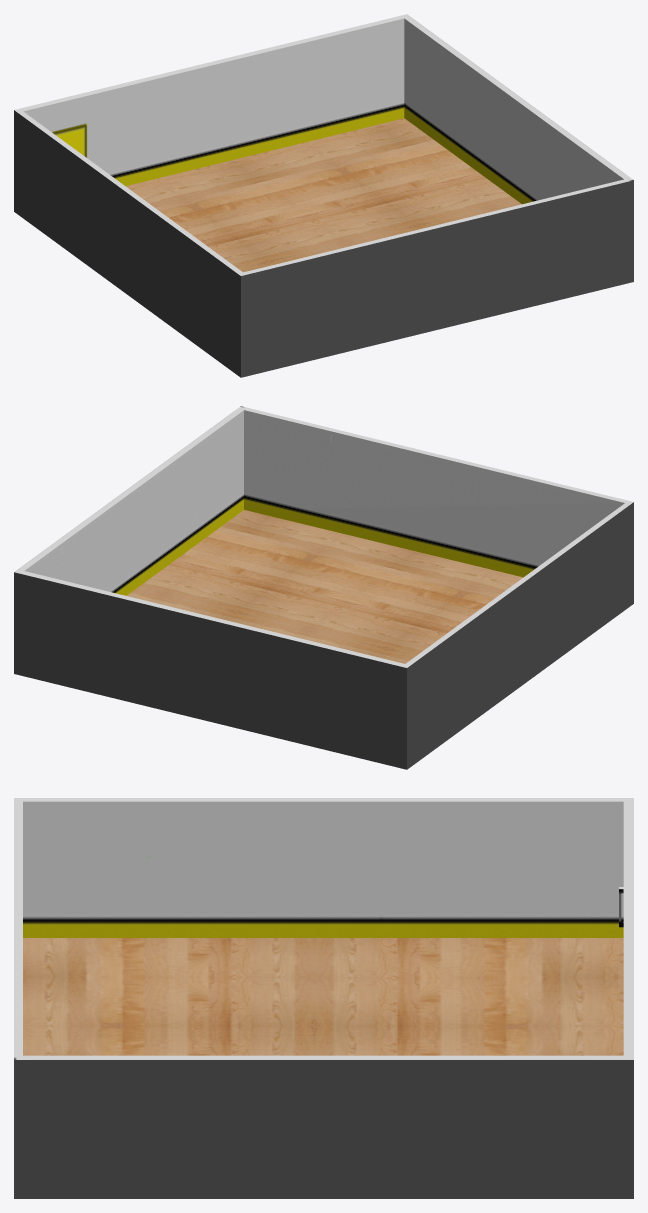
Rendered from storage_room.FBX.
The picture shows the model from 3 angles, top to bottom: view 1: azimuth 30°, elevation 25°; view 2: azimuth 150°, elevation 25°; view 3: azimuth 270°, elevation 25°; orthographic projection. The views are drawn at different scales.
Parts seen in each view (by area): view 1: Box001; view 2: Box001; view 3: Box001.
Part boxes in pixels (left/top/right/bottom): Box001: left=14, top=14, right=633, bottom=377; Box001: left=14, top=406, right=633, bottom=769; Box001: left=14, top=798, right=633, bottom=1198.
Bounding box in the file's own units: 80 × 19.78 × 80.
